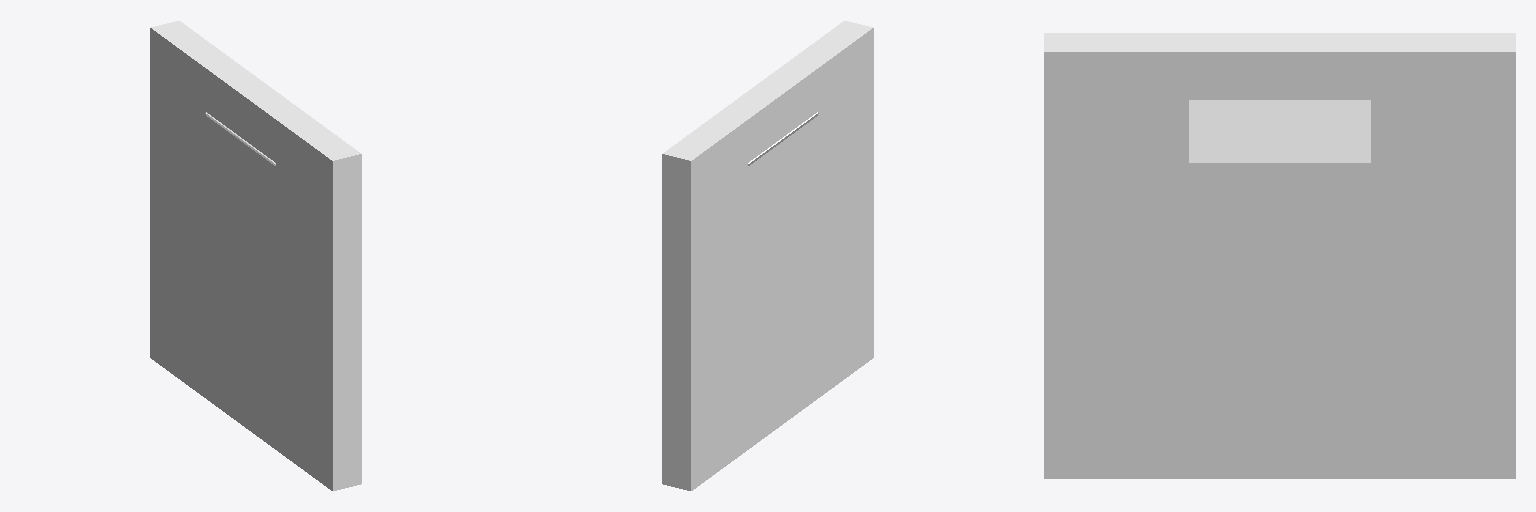
robot.urdf — dishwasher_door:
<?xml version="1.0" ?>
<!-- =================================================================================== -->
<!-- |    This document was autogenerated by xacro from dishwasher_door.urdf.xacro     | -->
<!-- |    EDITING THIS FILE BY HAND IS NOT RECOMMENDED                                 | -->
<!-- =================================================================================== -->
<robot name="dishwasher_door">
  <!-- Should be less then h - h_handle - h_bottom -->
  <link name="base_link">
    <origin rpy="0 0 0" xyz="0 0 0"/>
  </link>
  <link name="dishwasher_door">
    <inertial>
      <mass value="3"/>
      <inertia ixx="0.000247" ixy="0" ixz="0" iyy="0.077989" iyz="0" izz="0.457670"/>
      <origin rpy="0 0 0" xyz="0 0 0"/>
    </inertial>
    <!--     <visual>
      <origin xyz="0 -0.08 -0.13" rpy="0 0 1.57"/>
      <geometry>
        <mesh filename="file://[local-path]/catkin_ws/src/sampling_based_control/mppi_examples/mppi_manipulation/data/objects/door.obj" scale="1 1 1"/>
      </geometry>
      <material name="white">
        <color rgba="1. 1. 1. 1."/>
      </material>
    </visual> -->
    <!-- Back side -->
    <visual>
      <origin rpy="0 0 0.0" xyz="0 0 0.325"/>
      <geometry>
        <box size="0.03 0.65 0.65"/>
      </geometry>
      <material name="white">
        <color rgba="1.0 1.0 1.0 1.0"/>
      </material>
    </visual>
    <collision>
      <origin rpy="0 0 0.0" xyz="0 0 0.325"/>
      <geometry>
        <box size="0.03 0.65 0.65"/>
      </geometry>
    </collision>
    <!-- Left part -->
    <visual>
      <origin rpy="0 0 0" xyz="0.03 -0.225 0.325"/>
      <geometry>
        <box size="0.03 0.2 0.65"/>
      </geometry>
      <material name="white">
        <color rgba="1.0 1.0 1.0 1.0"/>
      </material>
    </visual>
    <collision>
      <origin rpy="0 0 0" xyz="0.03 -0.225 0.325"/>
      <geometry>
        <box size="0.03 0.2 0.65"/>
      </geometry>
    </collision>
    <!-- Right part -->
    <visual>
      <origin rpy="0 0 0" xyz="0.03 0.225 0.325"/>
      <geometry>
        <box size="0.03 0.2 0.65"/>
      </geometry>
      <material name="white">
        <color rgba="1.0 1.0 1.0 1.0"/>
      </material>
    </visual>
    <collision>
      <origin rpy="0 0 0" xyz="0.03 0.225 0.325"/>
      <geometry>
        <box size="0.03 0.2 0.65"/>
      </geometry>
    </collision>
    <!-- Upper part -->
    <visual>
      <origin rpy="0 0 0" xyz="0.04 0 0.615"/>
      <geometry>
        <box size="0.01 0.25 0.07000000000000003"/>
      </geometry>
      <material name="white">
        <color rgba="1.0 1.0 1.0 1.0"/>
      </material>
    </visual>
    <collision>
      <origin rpy="0 0 0" xyz="0.04 0 0.615"/>
      <geometry>
        <box size="0.01 0.25 0.07000000000000003"/>
      </geometry>
    </collision>
    <!--  Bottom part-->
    <visual>
      <origin rpy="0 0 0" xyz="0.03 0 0.24"/>
      <geometry>
        <box size="0.03 0.25 0.48"/>
      </geometry>
      <material name="white">
        <color rgba="1.0 1.0 1.0 1.0"/>
      </material>
    </visual>
    <collision>
      <origin rpy="0 0 0" xyz="0.03 0 0.24"/>
      <geometry>
        <box size="0.03 0.25 0.48"/>
      </geometry>
    </collision>
    <!--  Handle intake-->
    <visual>
      <origin rpy="0 -0.3490658503988659 0" xyz="0.013803603521927936                     0                     0.5218543288894103"/>
      <geometry>
        <box size="0.03 0.25 0.1"/>
      </geometry>
      <material name="white">
        <color rgba="1.0 1.0 1.0 1.0"/>
      </material>
    </visual>
    <collision>
      <origin rpy="0 -0.3490658503988659 0" xyz="0.013803603521927936                     0                     0.5218543288894103"/>
      <geometry>
        <box size="0.03 0.25 0.1"/>
      </geometry>
    </collision>
    <!-- Upper closure -->
    <visual>
      <origin rpy="0 0 0" xyz="0.03 0 0.64"/>
      <geometry>
        <box size="0.03 0.25 0.02"/>
      </geometry>
      <material name="white">
        <color rgba="1.0 1.0 1.0 1.0"/>
      </material>
    </visual>
    <collision>
      <origin rpy="0 0 0" xyz="0.03 0 0.64"/>
      <geometry>
        <box size="0.03 0.25 0.02"/>
      </geometry>
    </collision>
    <!-- Intake flat rear -->
    <!--     <collision>
      <origin xyz="${w_back/2 + w_intake_rear/2} 0 ${(h + h_bottom)/2}" rpy="0 0 0"/>
      <geometry>
        <box size="${w_intake_rear} ${l_center} ${h - h_bottom}"/>
      </geometry>
    </collision> -->
  </link>
  <joint name="articulation_joint" type="revolute">
    <parent link="base_link"/>
    <child link="dishwasher_door"/>
    <axis xyz="0 1 0"/>
    <origin rpy="0 0 0" xyz="0 0.08 0.13"/>
    <dynamics damping="1" friction="0.01"/>
    <limit effort="100" lower="0" upper="1.57" velocity="10.0"/>
  </joint>
  <link name="handle_link"/>
  <joint name="handle_joint" type="fixed">
    <parent link="dishwasher_door"/>
    <child link="handle_link"/>
    <origin rpy="1.5708 0 0" xyz="0.0 0 0.53"/>
  </joint>
</robot>

--- Facts derived from the render (not from the file) ---
3 views of the same robot in one strip: view 1: azimuth 30°, elevation 25°; view 2: azimuth 150°, elevation 25°; view 3: azimuth 270°, elevation 25° (orthographic).
Model dishwasher_door with 3 links and 2 joints (1 revolute, 1 fixed), rooted at base_link, posed all joints at 0.
Visible links, largest first — view 1: dishwasher_door; view 2: dishwasher_door; view 3: dishwasher_door.
Link boxes in pixels (x1,y1,x2,y2): dishwasher_door: (150,21,361,490); dishwasher_door: (662,21,873,490); dishwasher_door: (1044,33,1515,478).
Bounding box of the posed robot: 0.0624 × 0.65 × 0.65 m (x, y, z).
Geometry: primitives only (box / cylinder / sphere), no mesh files.